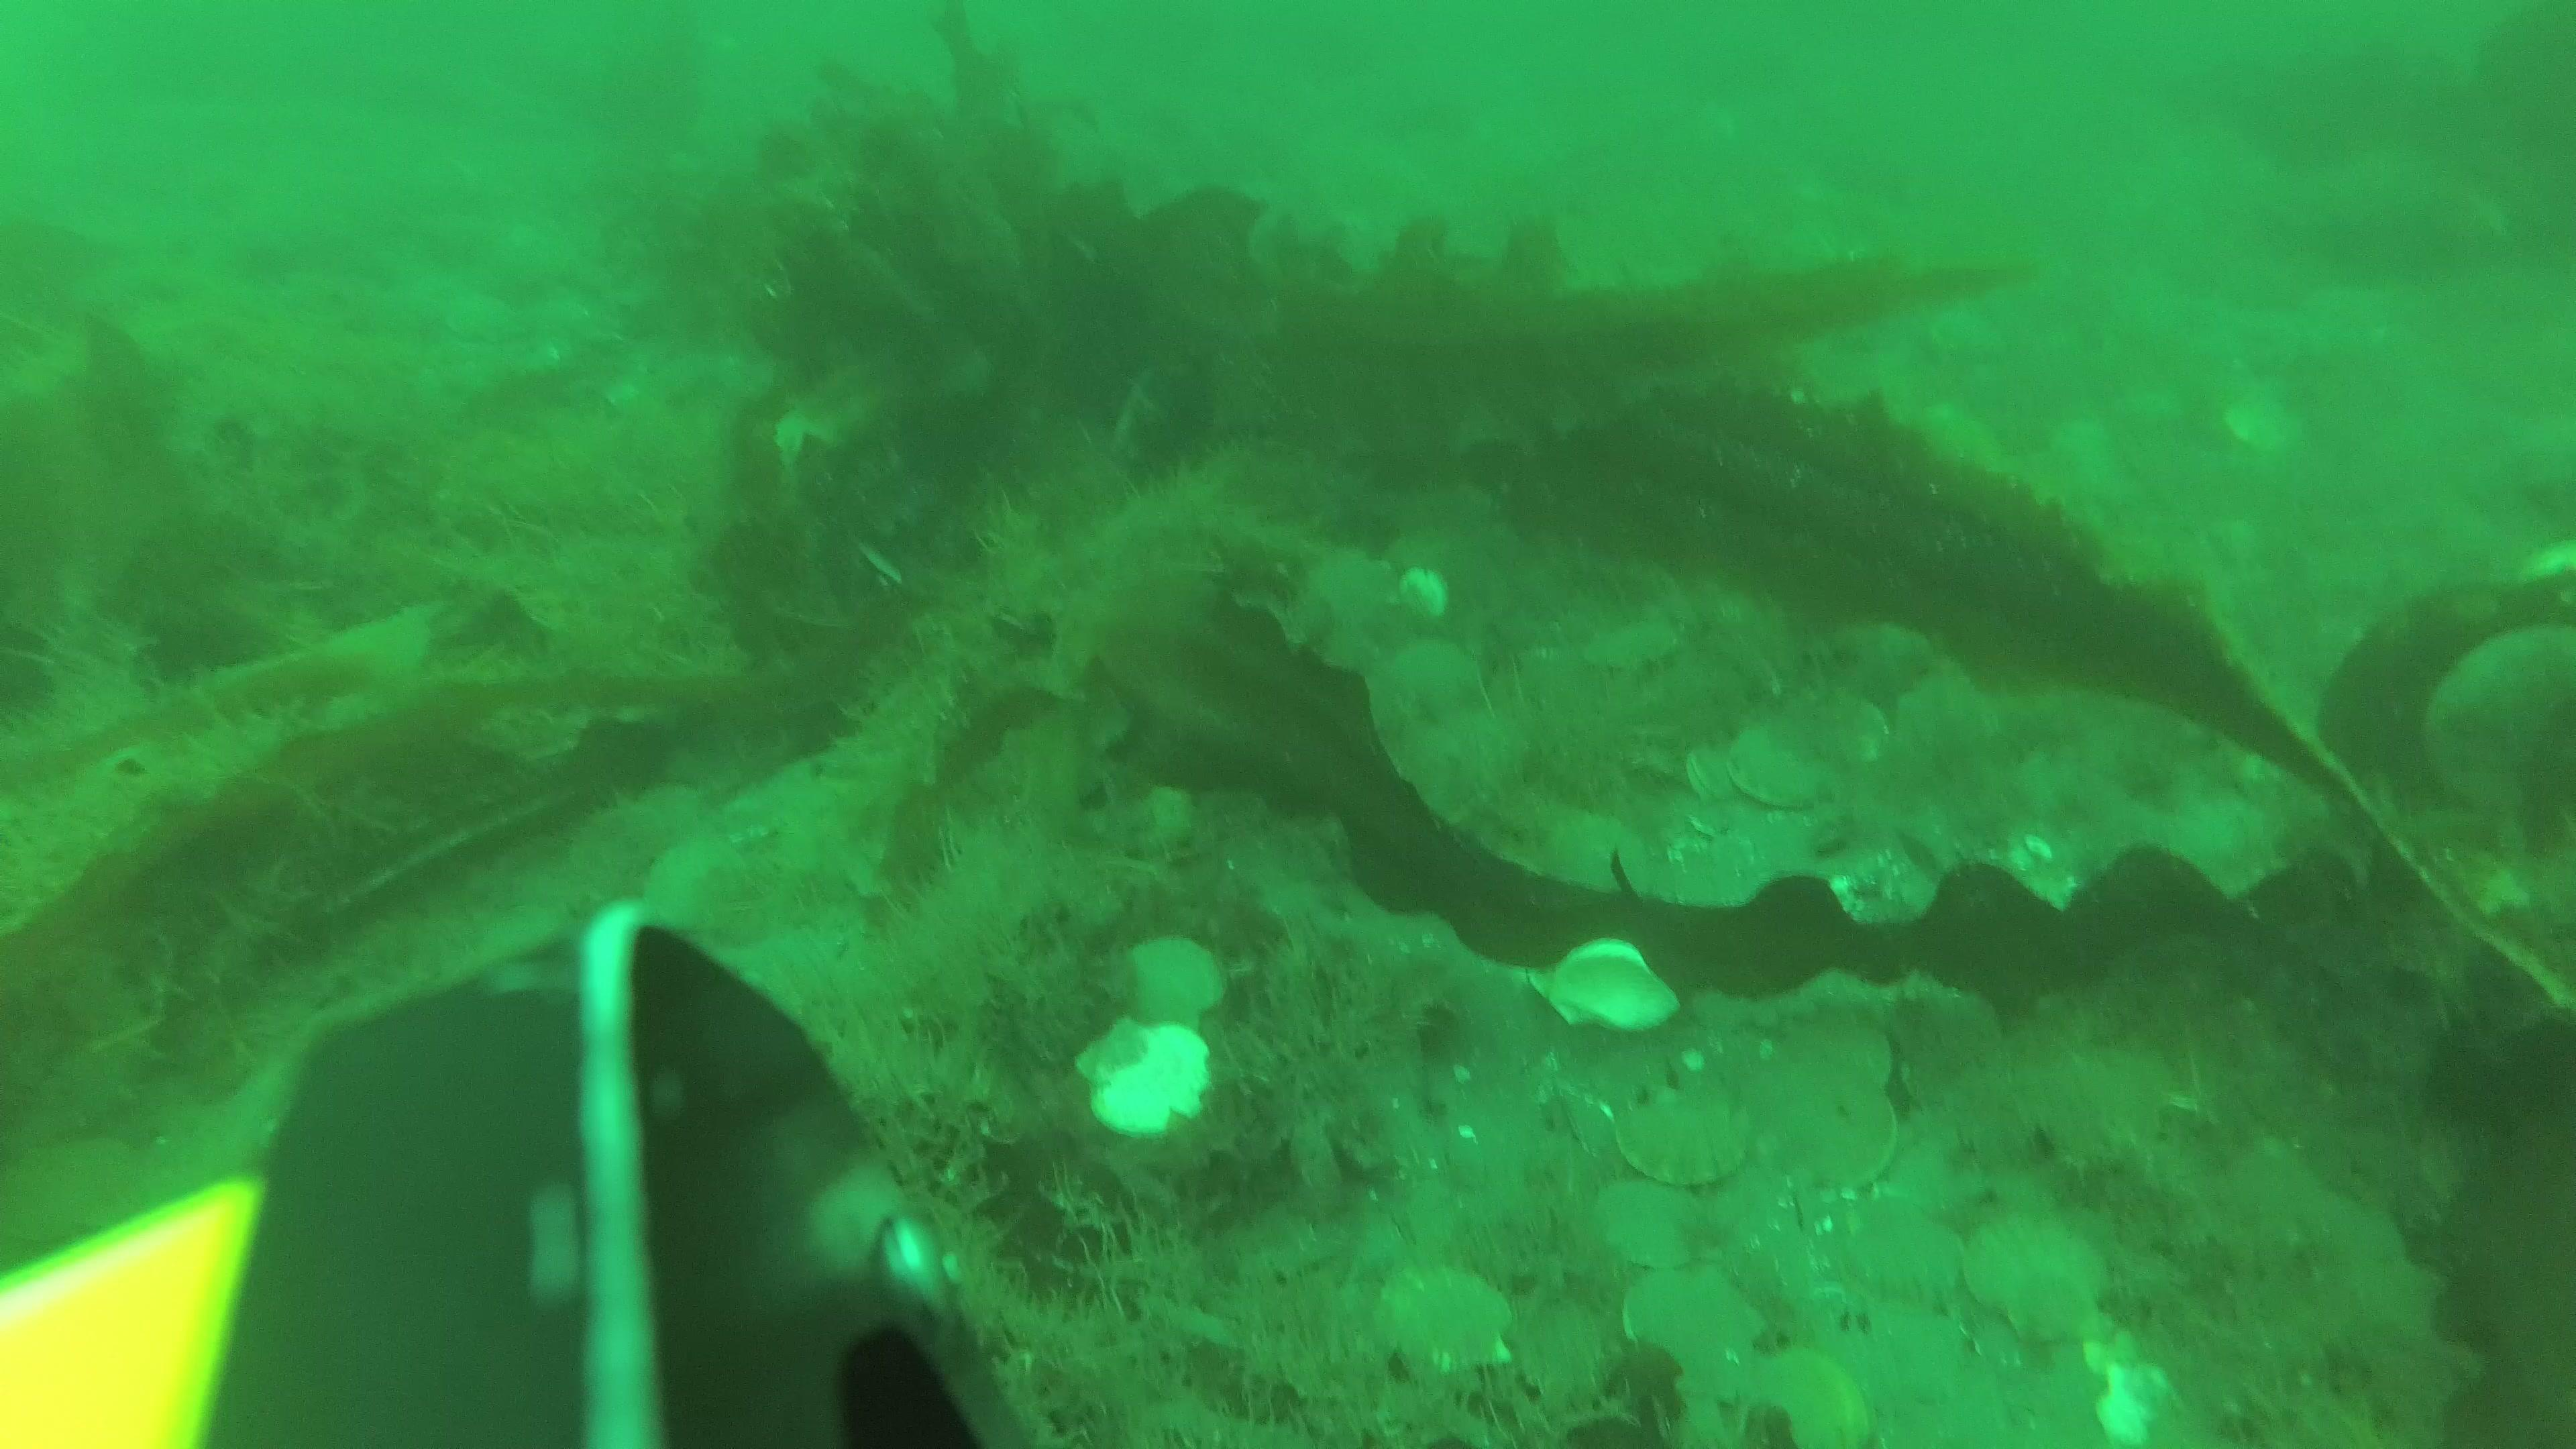scallop: (1506, 916, 1686, 1047), (1962, 1205, 2127, 1346), (1614, 1265, 1775, 1407), (1065, 1017, 1224, 1141), (1369, 1260, 1523, 1384), (1732, 1338, 1884, 1449), (1111, 927, 1240, 1049), (1585, 1169, 1725, 1281), (1614, 1083, 1748, 1191), (635, 830, 766, 939), (1801, 1069, 1907, 1201), (1729, 722, 1831, 816), (1392, 633, 1497, 725), (1576, 607, 1698, 681), (1808, 1019, 1900, 1104), (2220, 380, 2309, 458), (1824, 686, 1895, 771), (1681, 738, 1737, 809)
